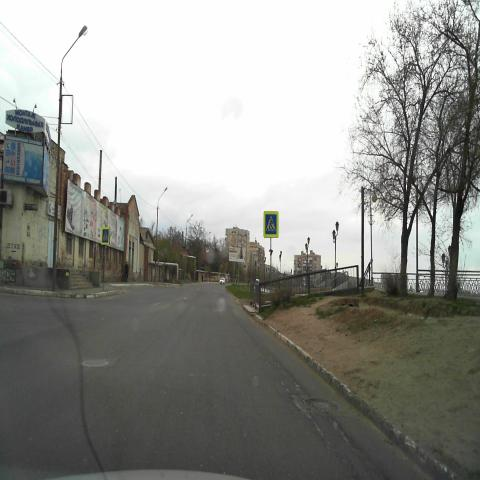5_19_1: (264, 211, 279, 238)
